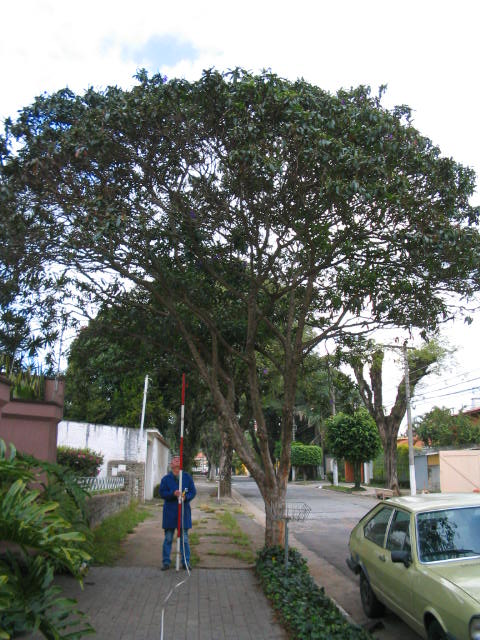crown: (5, 68, 475, 349)
stem: (251, 478, 298, 568), (374, 422, 408, 486)
stick: (170, 372, 193, 571)
tree: (3, 66, 480, 571), (330, 333, 451, 487)
